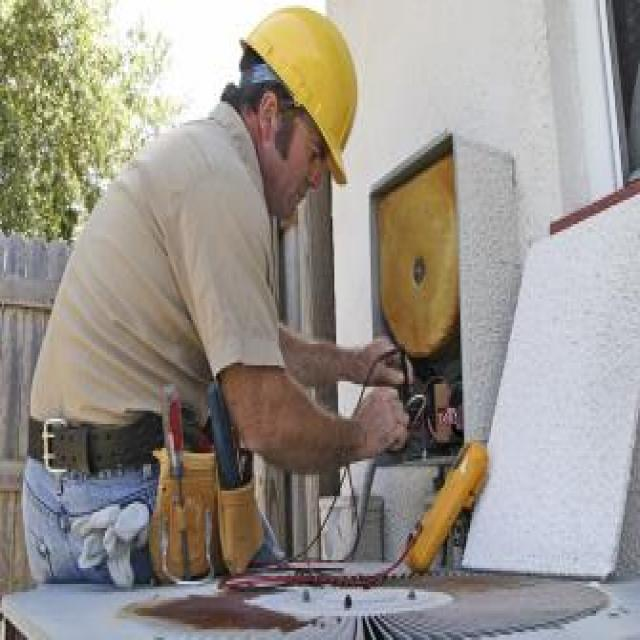Safety-Helmet: (233, 0, 368, 181)
